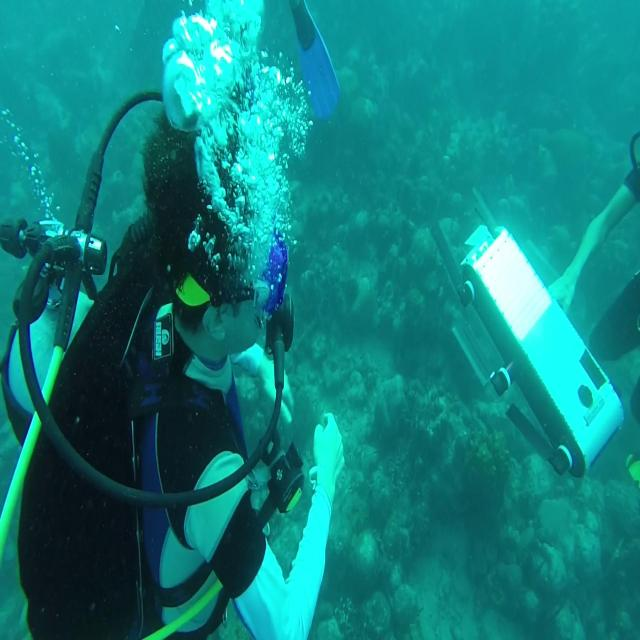human: (2, 1, 344, 638)
